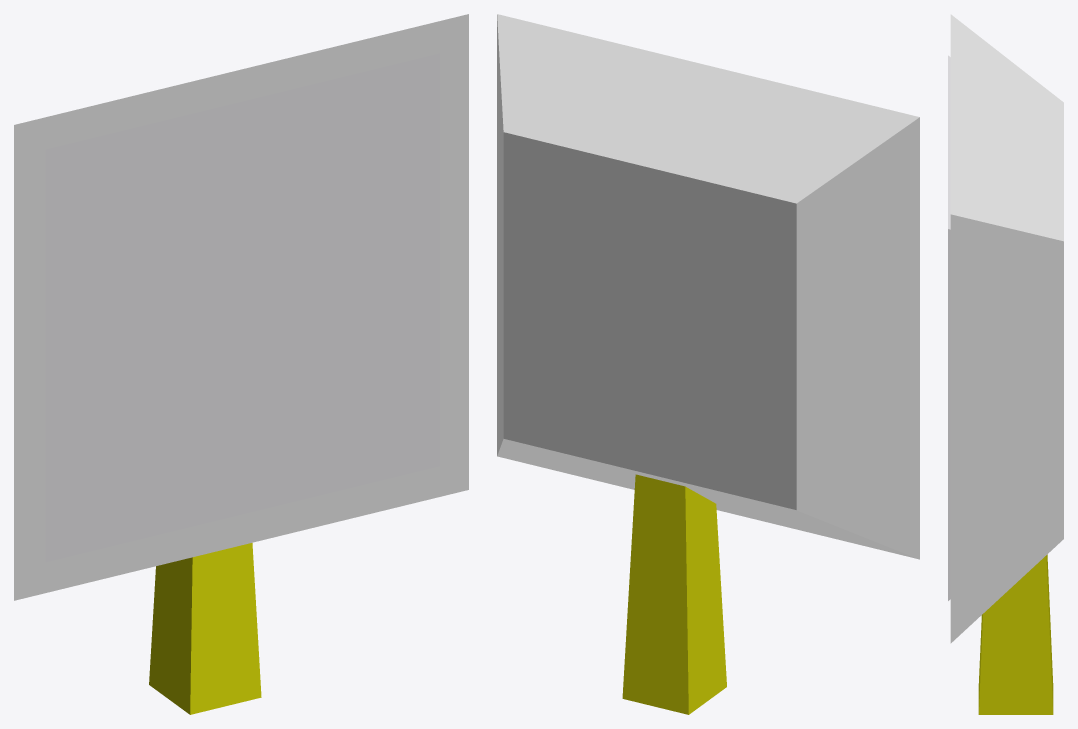
File: мониторик.fbx
3 renders of one model, left to right at view 1: azimuth 30°, elevation 25°; view 2: azimuth 150°, elevation 25°; view 3: azimuth 270°, elevation 25°, orthographic. The views are drawn at different scales.
Parts seen in each view (by area): view 1: Cube.002, Cube.001, Cube; view 2: Cube.001, Cube; view 3: Cube.001, Cube, Cube.002.
Boxes of the visible parts, left/top/right/bottom form: Cube.002: left=45, top=53, right=439, bottom=562; Cube.001: left=14, top=14, right=468, bottom=600; Cube: left=149, top=543, right=261, bottom=714; Cube.001: left=497, top=14, right=919, bottom=559; Cube: left=622, top=474, right=726, bottom=714; Cube.001: left=950, top=14, right=1063, bottom=643; Cube: left=978, top=554, right=1053, bottom=714; Cube.002: left=948, top=55, right=950, bottom=600.
Bounding box in the file's own units: 231 × 315 × 56.54.
